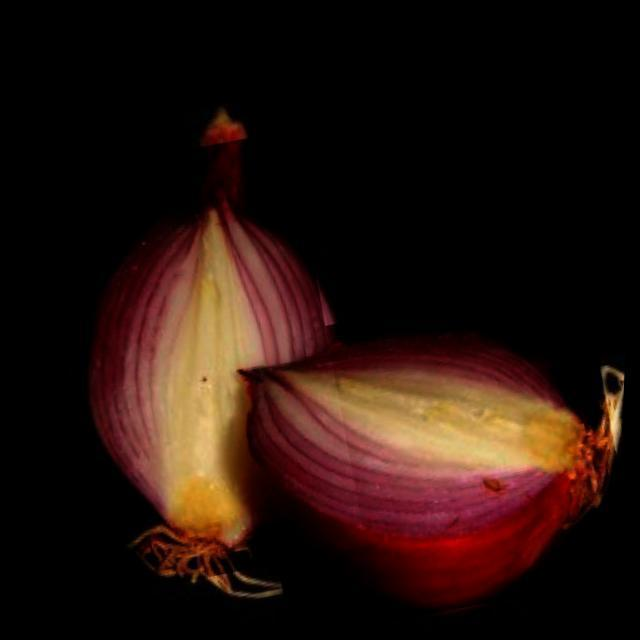Onion: (88, 113, 339, 598), (239, 329, 627, 598)
